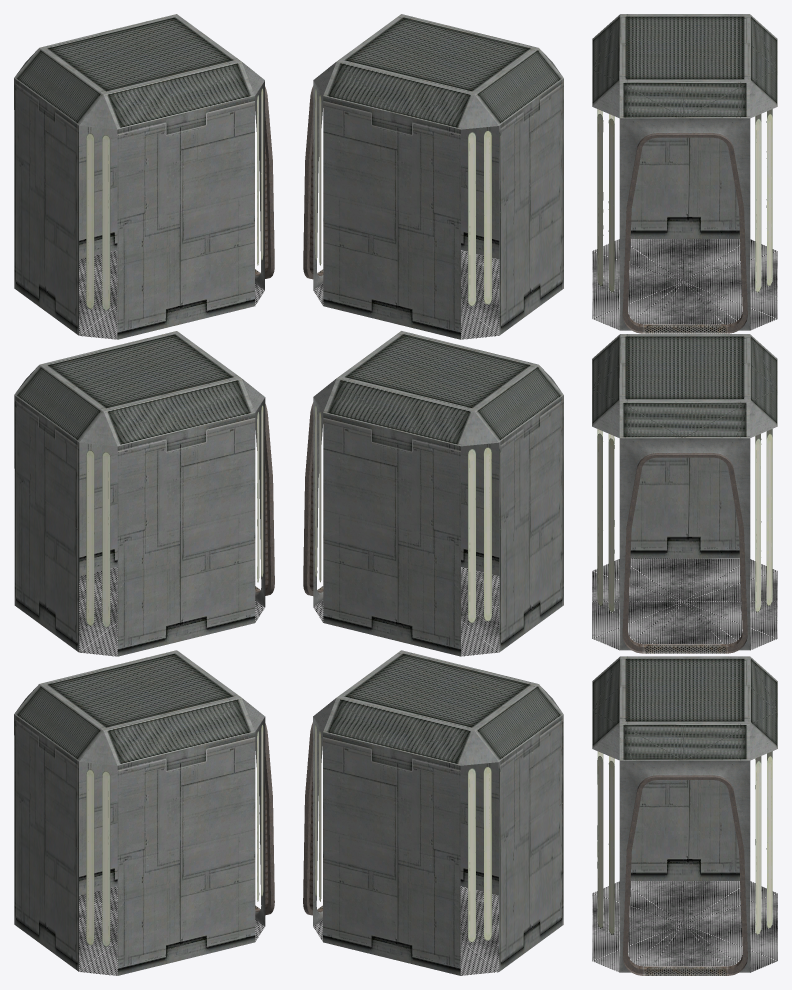
Rendered from thm_tato_house_sml_s01_fp1_r9_elevator1_mesh_r9.fbx.
The picture shows the model from 3 angles, left to right: view 1: azimuth 30°, elevation 25°; view 2: azimuth 150°, elevation 25°; view 3: azimuth 270°, elevation 25°; orthographic projection.
Visible parts, largest first — view 1: mesh_node; view 2: mesh_node; view 3: mesh_node.
Boxes of the visible parts, <box> form: mesh_node: <box>14,14,274,975</box>; mesh_node: <box>303,14,563,975</box>; mesh_node: <box>592,14,777,975</box>.
Size of the model in its own units: 3.34 by 14.09 by 2.7.
